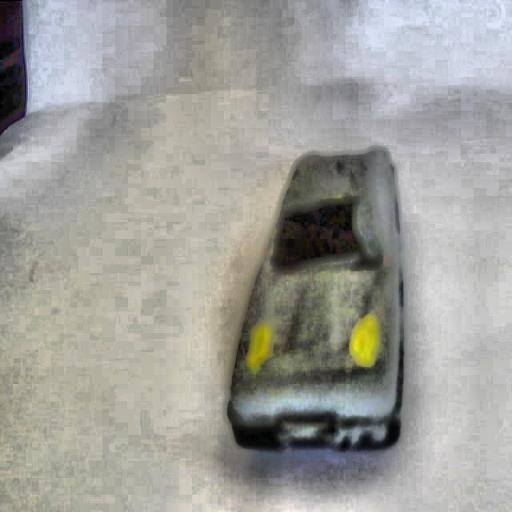normal_car: (220, 134, 409, 470)
